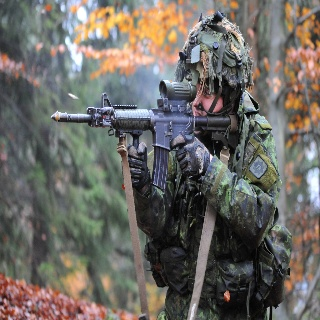rifle: (49, 78, 238, 191)
